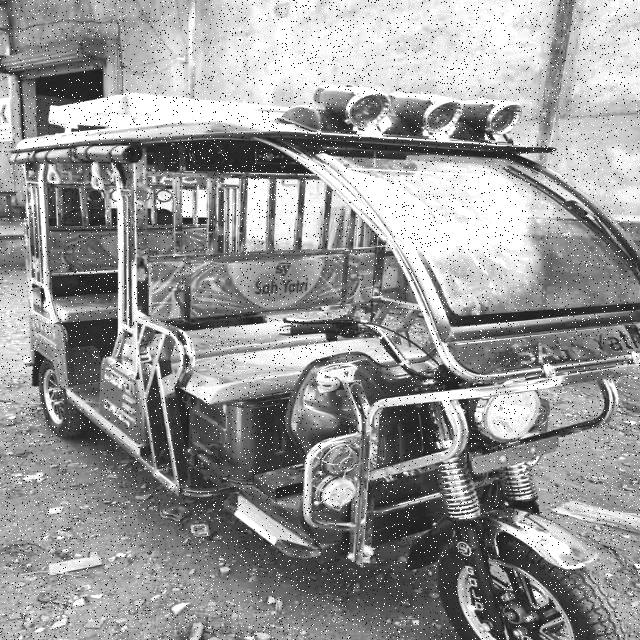Toto: (9, 107, 640, 640)
